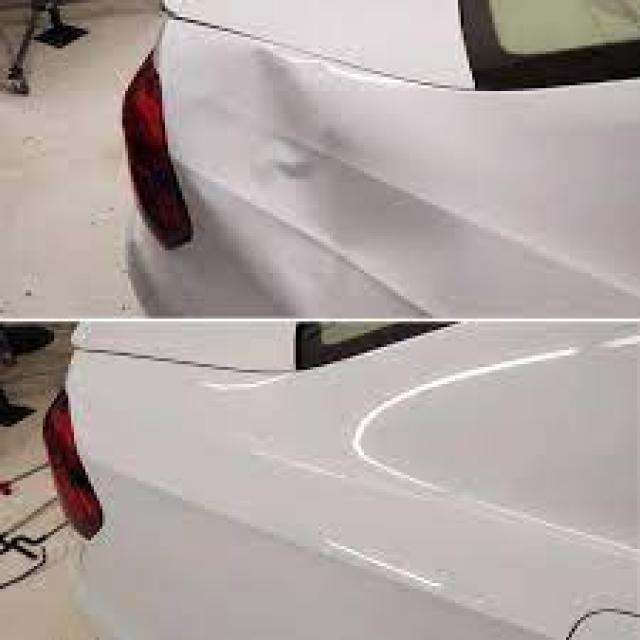Dent: (208, 74, 396, 258)
